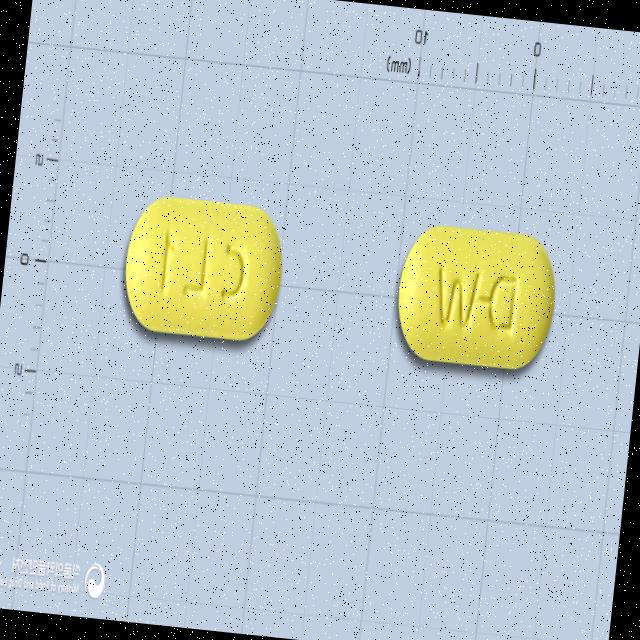Clearmycin: (118, 190, 290, 346), (392, 223, 561, 374)
